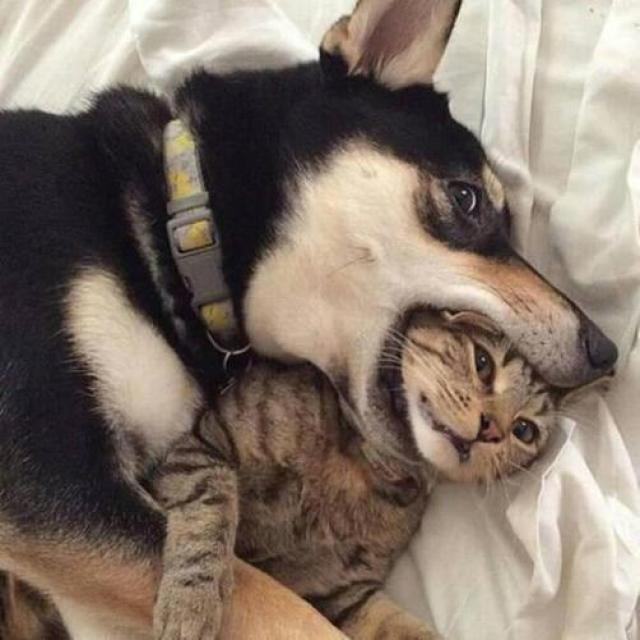cat: (370, 307, 559, 499)
dog: (164, 19, 609, 323)
